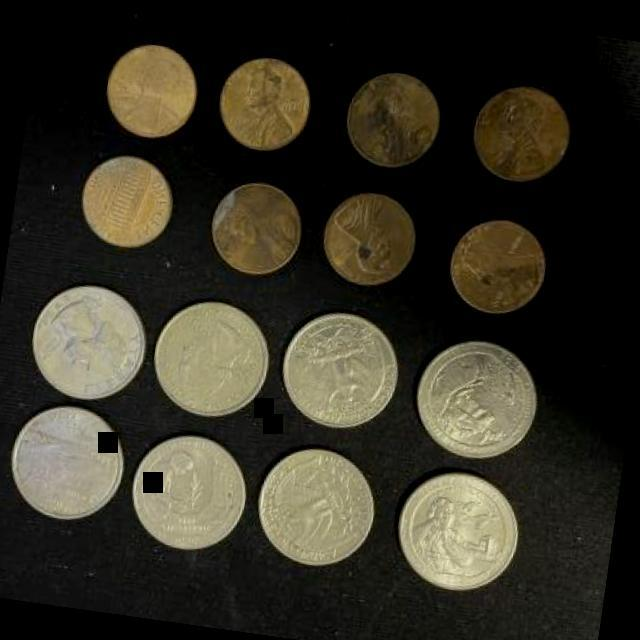Penny: (208, 49, 320, 160), (462, 75, 572, 188), (336, 65, 446, 176), (93, 34, 202, 146), (310, 185, 420, 295), (437, 211, 547, 321), (200, 173, 308, 281), (74, 148, 175, 254)
Quarter: (247, 438, 386, 580), (402, 326, 540, 468), (271, 302, 407, 441), (138, 292, 274, 429), (120, 426, 254, 564), (389, 468, 525, 602), (21, 276, 154, 408), (3, 396, 131, 528)
